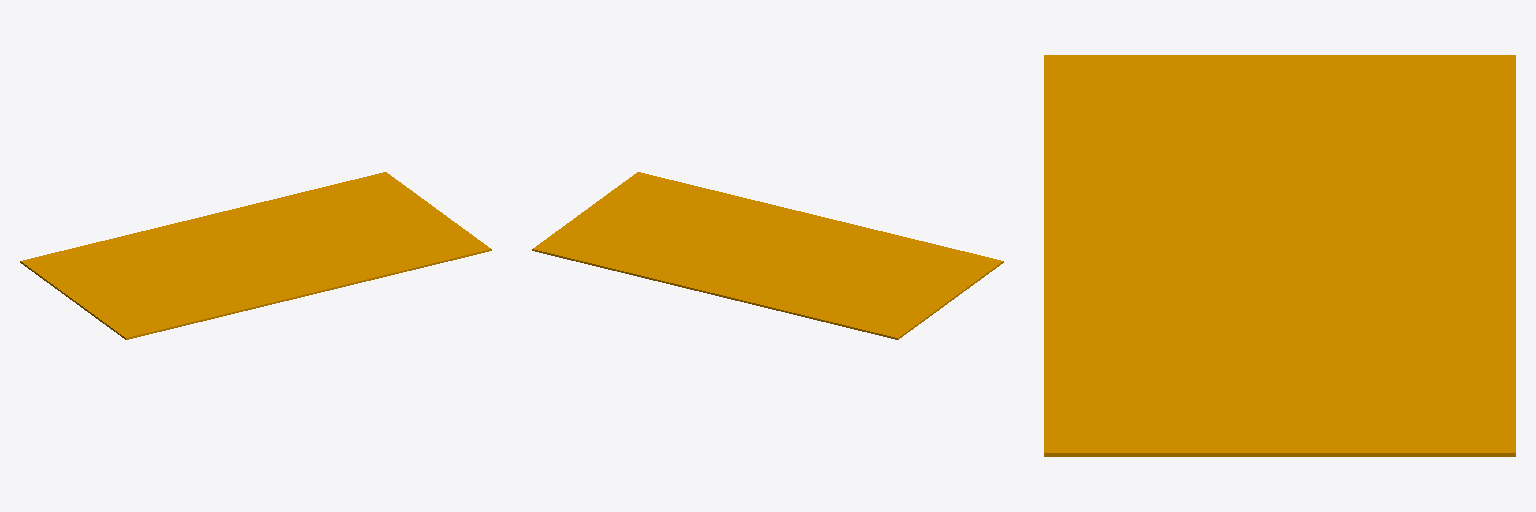
robot.urdf — slope:
<?xml version="1.0" ?>

<robot name="slope">
  <!-- ======================================= -->
 
 
 
  <link name="shell">
  <contact>
      <lateral_friction value="1"/>
      <spinning_friction value="1"/>
      <rolling_friction value="1"/>
    </contact>
    <visual>
      <origin rpy="0 0 0" xyz="-1 0 0"/>
      <geometry>
        <box size="2 1 0.01"/>
      </geometry>
      <material name="black"/>
    </visual>
    <collision>
      <origin rpy="0 0 0" xyz="-1 0 0"/>
      <geometry>
        <box size="2 1 0.01"/>
      </geometry>
    </collision>
  </link>
  
  
  
  
  
  </robot>

--- Facts derived from the render (not from the file) ---
3 views of the same robot in one strip: view 1: azimuth 30°, elevation 25°; view 2: azimuth 150°, elevation 25°; view 3: azimuth 270°, elevation 25° (orthographic).
Robot: slope — 1 links, 0 joints (none); root link shell; default pose: all joints at 0.
Visible links, largest first — view 1: shell; view 2: shell; view 3: shell.
Boxes of the visible links, x1,y1,x2,y2 form: shell: (20,172,491,339); shell: (532,172,1003,339); shell: (1044,55,1515,456).
Bounding box of the posed robot: 2 × 1 × 0.01 m (x, y, z).
Geometry: primitives only (box / cylinder / sphere), no mesh files.